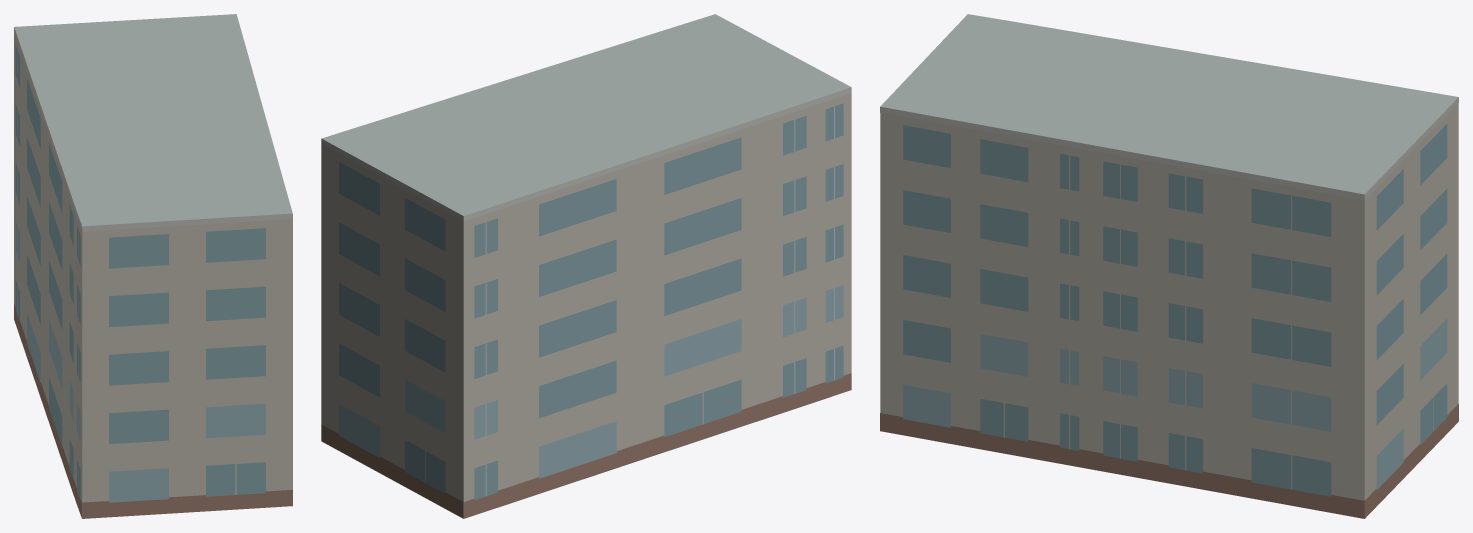
Rendered from survey-upis-32962988.glb.
3 views of the same model, side by side, from view 1: azimuth 30°, elevation 25°; view 2: azimuth 150°, elevation 25°; view 3: azimuth 270°, elevation 25° (orthographic). The views are drawn at different scales.
Parts seen in each view (by area): view 1: survey-upis-32962988.tmp; view 2: survey-upis-32962988.tmp; view 3: survey-upis-32962988.tmp.
Part boxes in pixels (box(x1,y1,x2,y2)): survey-upis-32962988.tmp: box(14, 14, 292, 518); survey-upis-32962988.tmp: box(321, 14, 851, 518); survey-upis-32962988.tmp: box(880, 14, 1458, 518).
Size of the model in its own units: 16.11 by 13.5 by 21.83.
